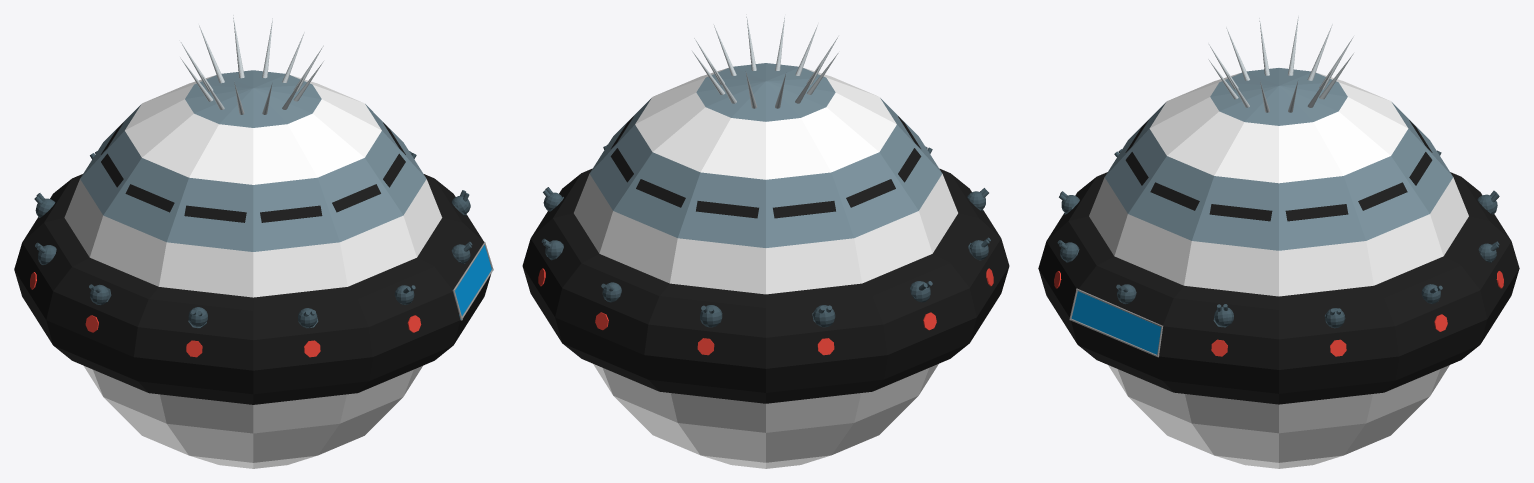
File: boss_1.fbx
3 views of the same model, side by side, from view 1: azimuth 30°, elevation 25°; view 2: azimuth 150°, elevation 25°; view 3: azimuth 270°, elevation 25° (orthographic).
Parts seen in each view (by area): view 1: mesh_431745910, mesh_707110144, group_1052782905, group_1323065448, group_1679953367, group_1025911718; view 2: mesh_431745910, mesh_707110144, group_674408740, group_139141690, group_493609865, group_40846965; view 3: mesh_431745910, mesh_707110144, group_13067743, group_1038443729, group_2036910082, group_382883186.
Boxes of the visible parts, <box> form: mesh_431745910: <box>64,70,442,468</box>; mesh_707110144: <box>14,174,491,404</box>; group_1052782905: <box>260,205,322,222</box>; group_1323065448: <box>184,205,246,222</box>; group_1679953367: <box>332,184,380,212</box>; group_1025911718: <box>125,184,174,212</box>; mesh_431745910: <box>574,63,957,468</box>; mesh_707110144: <box>522,168,1009,403</box>; group_674408740: <box>773,201,835,218</box>; group_139141690: <box>696,201,758,218</box>; group_493609865: <box>846,179,895,207</box>; group_40846965: <box>636,179,685,207</box>; mesh_431745910: <box>1089,68,1468,468</box>; mesh_707110144: <box>1038,172,1519,404</box>; group_13067743: <box>1285,204,1348,221</box>; group_1038443729: <box>1209,204,1272,221</box>; group_2036910082: <box>1358,182,1407,210</box>; group_382883186: <box>1150,182,1199,210</box>.
Bounding box in the file's own units: 190 × 176 × 190.
